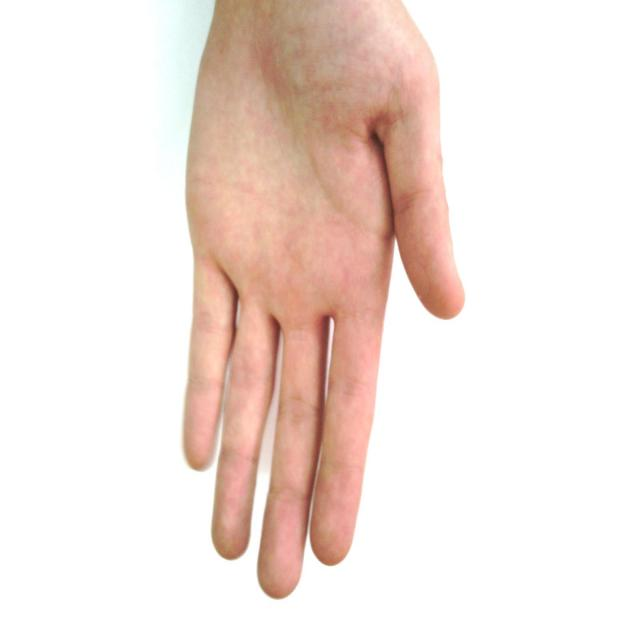others: (166, 1, 488, 610)
